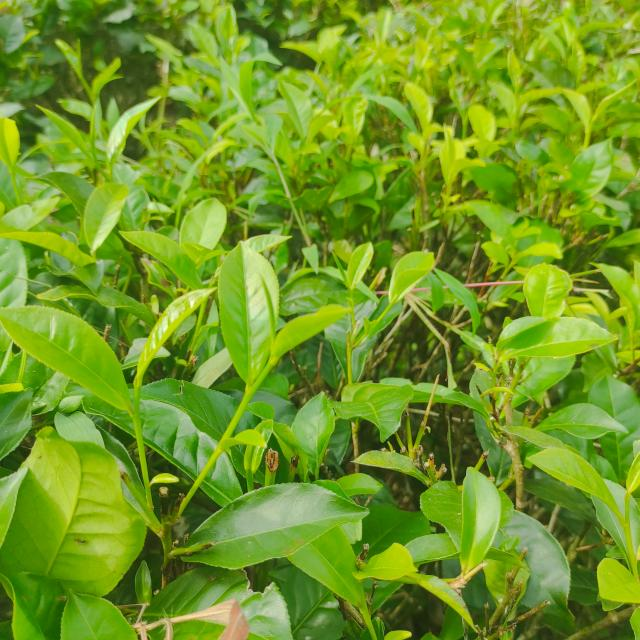unopened_leaf: (254, 265, 282, 358), (85, 99, 106, 160), (328, 242, 353, 290)
